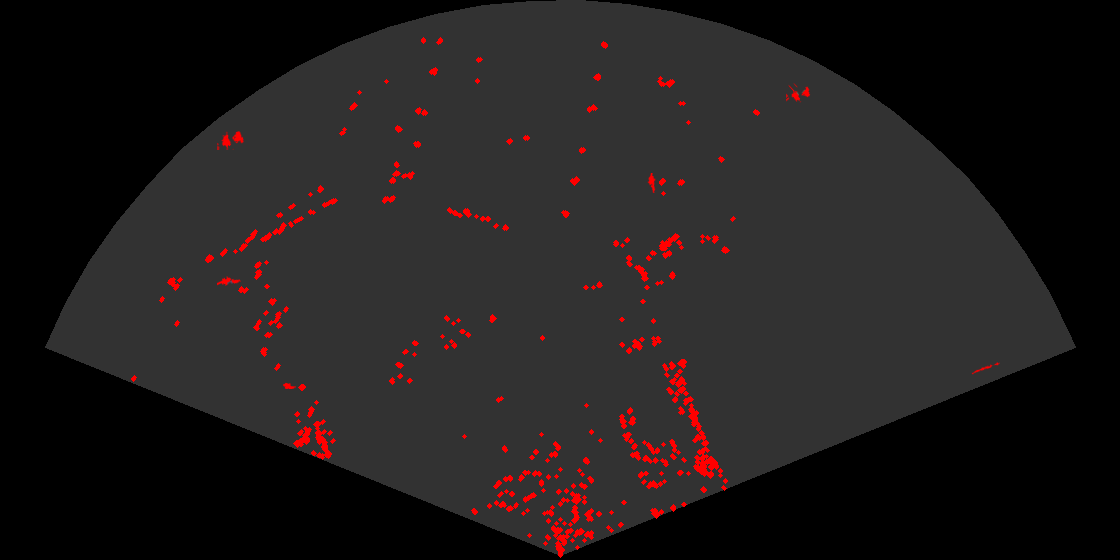AUV: (281, 381, 296, 389)
cage: (786, 82, 812, 104), (217, 130, 245, 150)
chain: (970, 361, 1000, 376)
frogman: (217, 275, 241, 287), (646, 173, 657, 193)
